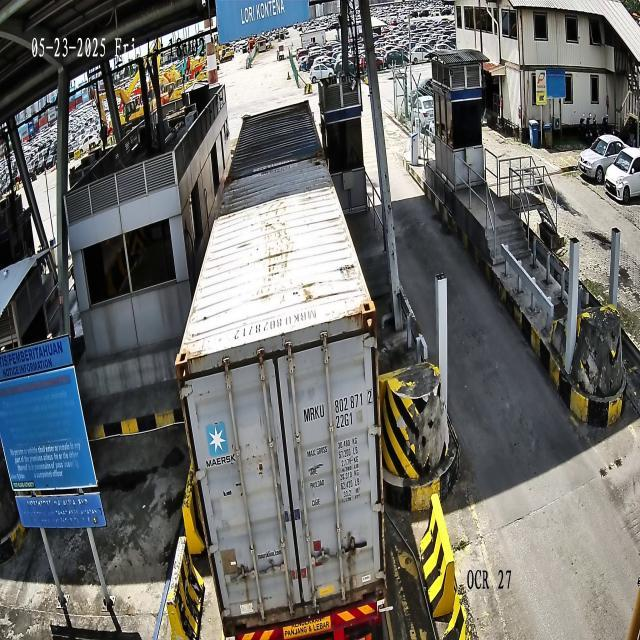ISO: (336, 411, 352, 430)
container_number: (303, 388, 373, 423)
